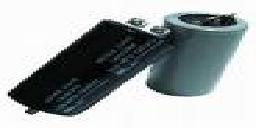Electrolytic-Capacitor: (8, 14, 173, 126)
